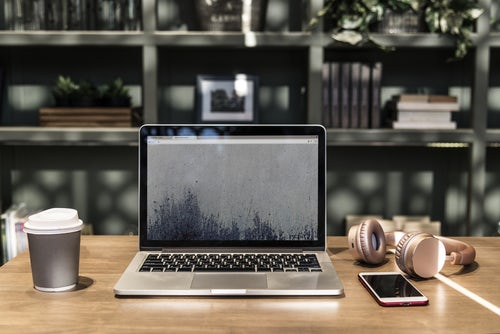phone: (357, 265, 429, 315)
